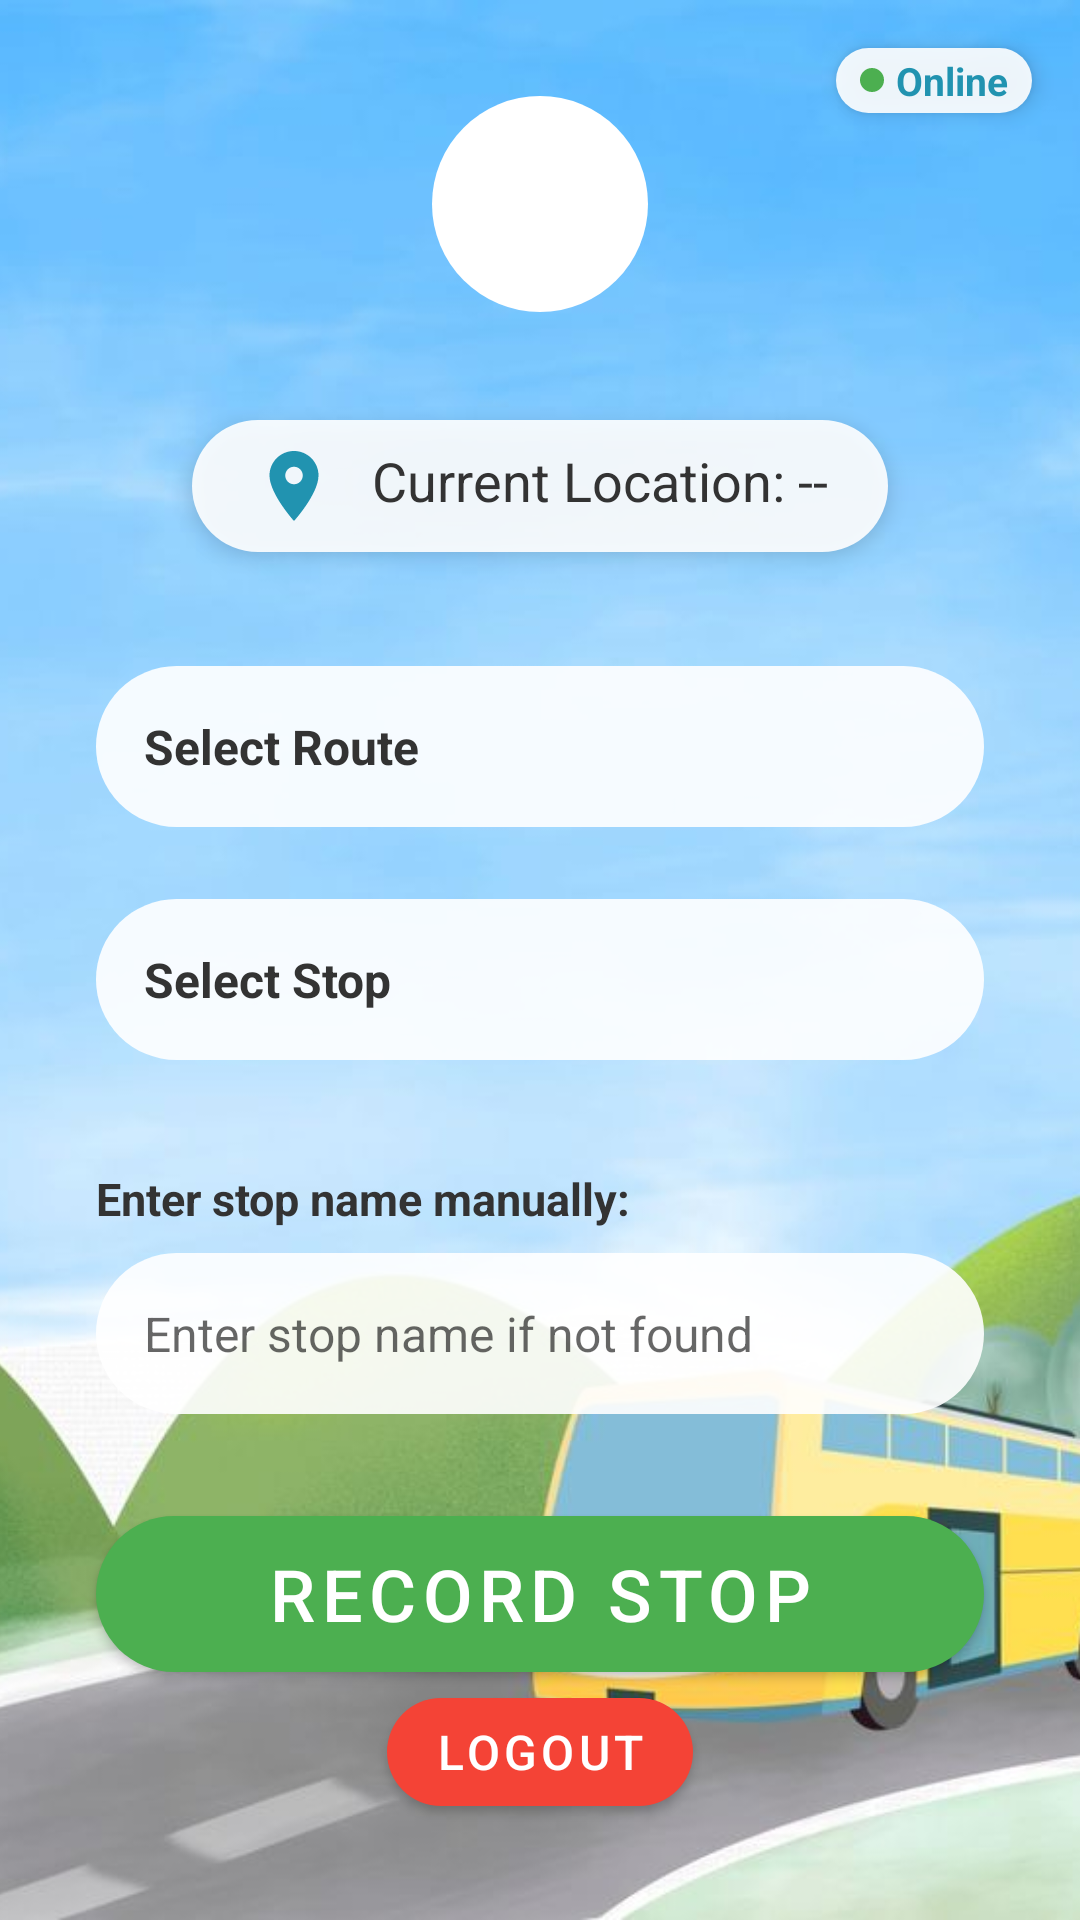

Icons on this 1080×1920 Android screen, each with the point to tap as (x,y):
Location Pin: (294,486)
